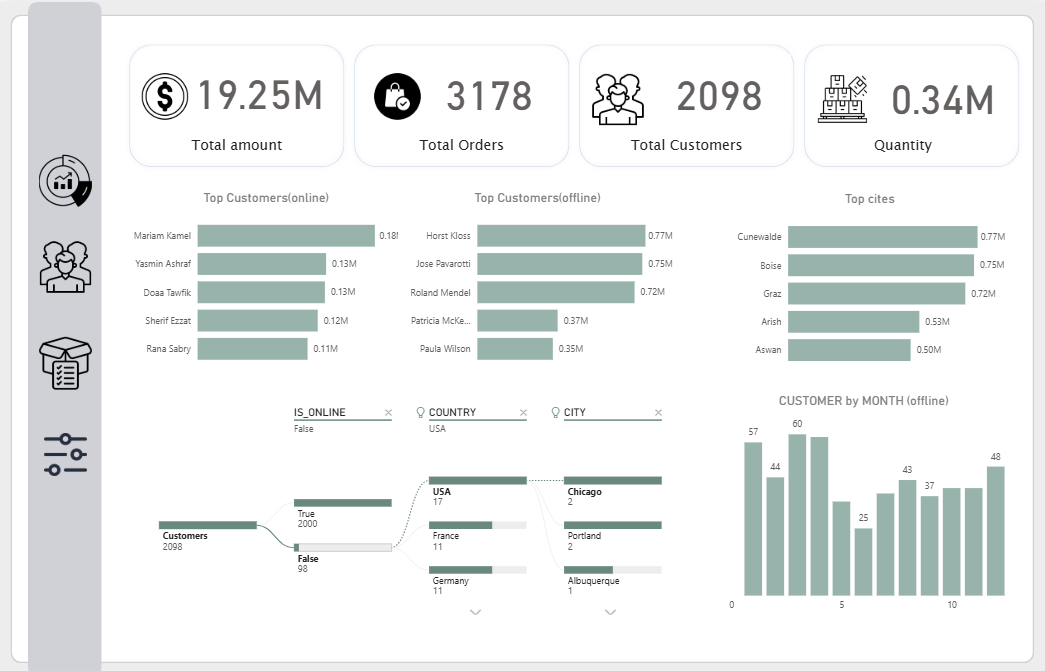

The dashboard page shown, as its layout file describes it:
{"tool":"powerbi","page":{"name":"customers","canvas":[1400,900],"ordinal":1},"visuals":[{"type":"shape","box":[16.7,16.7,1365,865],"z":0},{"type":"shape","box":[40,0,98.3,900],"z":1000},{"type":"shape","box":[168.3,50,300,176.7],"z":2000},{"type":"shape","box":[468.3,50,300,176.7],"z":3000},{"type":"shape","box":[768.3,50,300,176.7],"z":4000},{"type":"shape","box":[1068.3,50,300,176.7],"z":5000},{"type":"image","box":[50,198.3,80,80],"z":6000},{"type":"image","box":[786.7,90,80,80],"z":7000},{"type":"image","box":[50,441.7,80,80],"z":8000},{"type":"image","box":[50,563.3,80,80],"z":9000},{"type":"card","fields":{"Values":["FACT_ORDERS.ORDER_AMOUNT"]},"box":[253.3,68.3,190,96.7],"z":10000},{"type":"textbox","box":[226.7,171.7,183.3,55],"z":11000},{"type":"image","box":[185,88.3,75,75],"z":12000},{"type":"card","fields":{"Values":["FACT_ORDERS.ORDER_KEY"]},"box":[560,70,190,96.7],"z":13000},{"type":"textbox","box":[526.7,171.7,183.3,55],"z":14000},{"type":"image","box":[495,88.3,75,75],"z":15000},{"type":"card","fields":{"Values":["DIM_CUSTOMERS.USER_ID"]},"box":[866.7,70,190,96.7],"z":16000},{"type":"textbox","box":[826.7,171.7,183.3,55],"z":17000},{"type":"card","fields":{"Values":["FACT_ORDERS.QUANTITY"]},"box":[1165,75,190,96.7],"z":18000},{"type":"textbox","box":[1115,171.7,183.3,55],"z":19000},{"type":"image","box":[1088.3,91.7,75,75],"z":20000},{"type":"barChart","title":"Top Customers(online)","fields":{"Y":["FACT_ORDERS.ORDER_AMOUNT"],"Category":["DIM_CUSTOMERS.FULL_NAME"]},"box":[168.3,250,378.3,248.3],"z":21000},{"type":"barChart","title":"Top Customers(offline)","fields":{"Y":["FACT_ORDERS.ORDER_AMOUNT"],"Category":["DIM_CUSTOMERS.FULL_NAME"]},"box":[533.3,250,371.7,248.3],"z":22000},{"type":"image","box":[50,313.3,80,80],"z":23000},{"type":"decompositionTreeVisual","fields":{"ExplainBy":["DIM_CUSTOMERS.IS_ONLINE","DIM_CUSTOMERS.COUNTRY","DIM_CUSTOMERS.CITY"],"Analyze":["DIM_CUSTOMERS.USER_ID"]},"box":[185,521.7,755,300],"z":24000},{"type":"barChart","title":"Top cites ","fields":{"Y":["FACT_ORDERS.ORDER_AMOUNT"],"Category":["DIM_CUSTOMERS.CITY"]},"box":[976.7,251.7,371.7,248.3],"z":25000},{"type":"clusteredColumnChart","title":"CUSTOMER by MONTH (offline)","fields":{"Category":["DIM_DATE.MONTH"],"Y":["FACT_ORDERS.CUSTOMER_SK"]},"box":[960,521.7,388.3,300],"z":26000}]}

Visuals, with their boxes on the page's 1400x900 design canvas (x1, y1, x2, y2). These are canvas units, not pixel positions in the 1045x671 screenshot, which may show the page scaled, cropped or inside an application window:
shape: region(17, 17, 1382, 882)
shape: region(40, 0, 138, 900)
shape: region(168, 50, 468, 227)
shape: region(468, 50, 768, 227)
shape: region(768, 50, 1068, 227)
shape: region(1068, 50, 1368, 227)
image: region(50, 198, 130, 278)
image: region(787, 90, 867, 170)
image: region(50, 442, 130, 522)
image: region(50, 563, 130, 643)
card - FACT_ORDERS.ORDER_AMOUNT: region(253, 68, 443, 165)
textbox: region(227, 172, 410, 227)
image: region(185, 88, 260, 163)
card - FACT_ORDERS.ORDER_KEY: region(560, 70, 750, 167)
textbox: region(527, 172, 710, 227)
image: region(495, 88, 570, 163)
card - DIM_CUSTOMERS.USER_ID: region(867, 70, 1057, 167)
textbox: region(827, 172, 1010, 227)
card - FACT_ORDERS.QUANTITY: region(1165, 75, 1355, 172)
textbox: region(1115, 172, 1298, 227)
image: region(1088, 92, 1163, 167)
"Top Customers(online)" barChart: region(168, 250, 547, 498)
"Top Customers(offline)" barChart: region(533, 250, 905, 498)
image: region(50, 313, 130, 393)
decompositionTreeVisual - DIM_CUSTOMERS.IS_ONLINE x DIM_CUSTOMERS.COUNTRY: region(185, 522, 940, 822)
"Top cites " barChart: region(977, 252, 1348, 500)
"CUSTOMER by MONTH (offline)" clusteredColumnChart: region(960, 522, 1348, 822)
